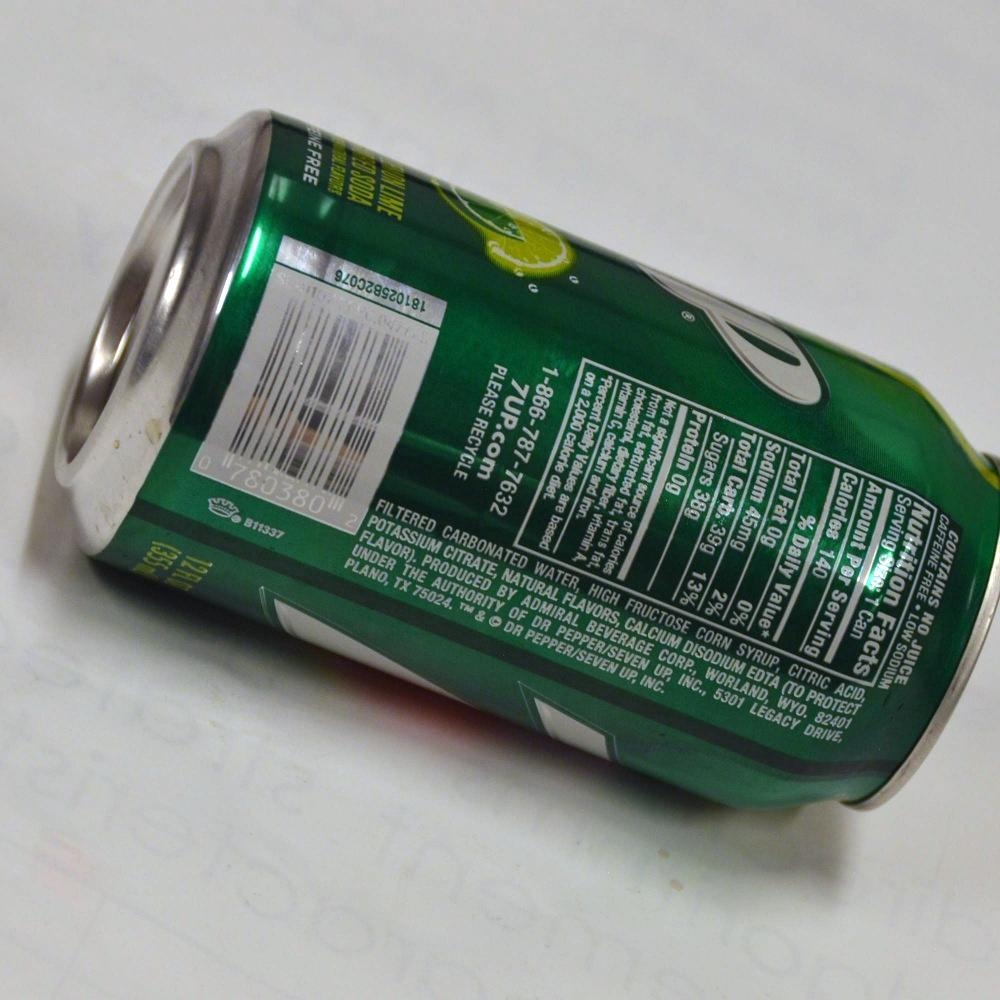Metal: (70, 102, 991, 873)
